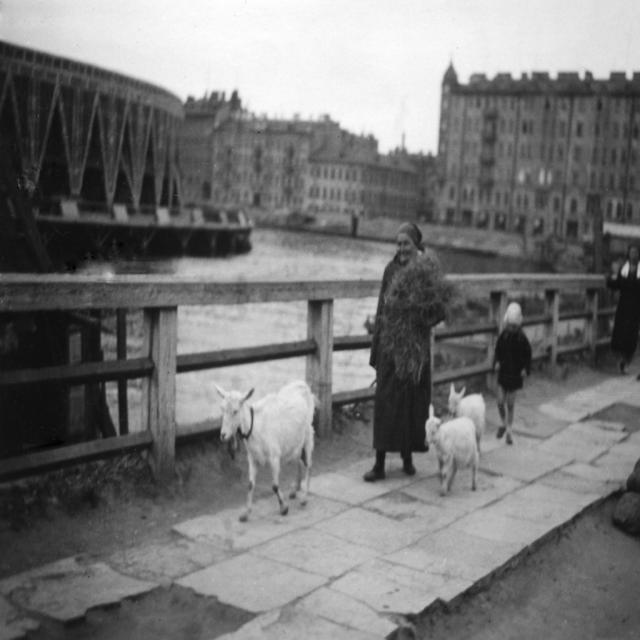Goat: (212, 377, 321, 522)
